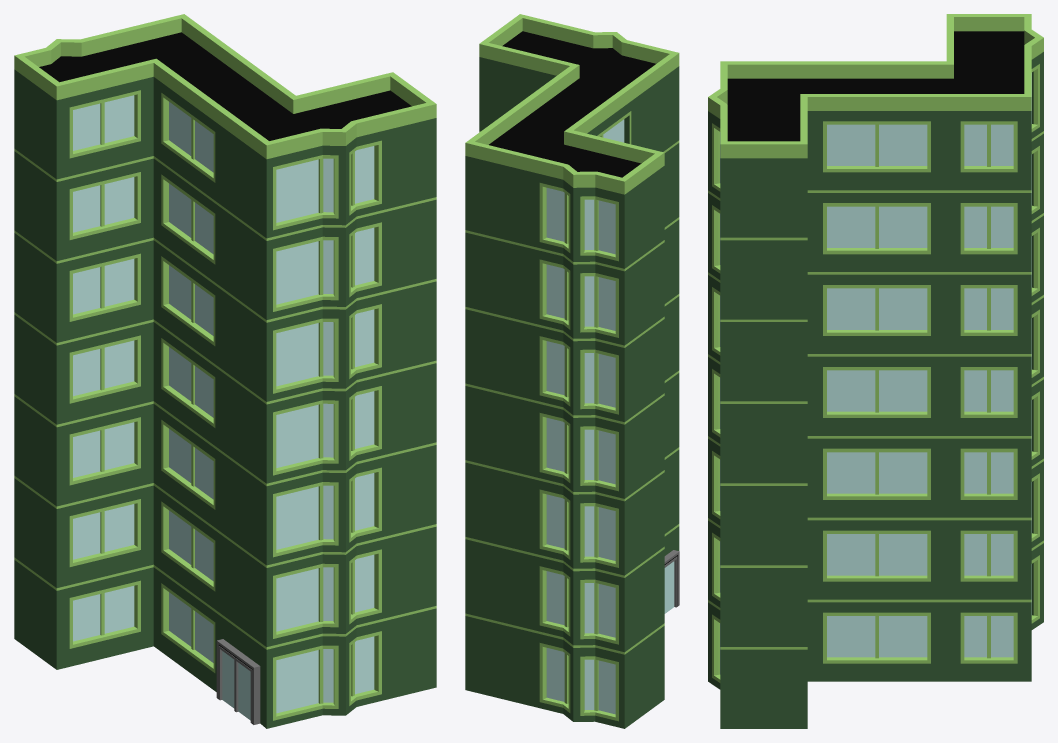
The model's file is BlockOfFlats10.fbx.
3 views of the same model, side by side, from view 1: azimuth 30°, elevation 25°; view 2: azimuth 150°, elevation 25°; view 3: azimuth 270°, elevation 25° (orthographic). The views are drawn at different scales.
Visible parts, largest first — view 1: Cube.008; view 2: Cube.008; view 3: Cube.008.
Part boxes in pixels (x1,y1,x2,y2): Cube.008: (14,14,436,728); Cube.008: (465,14,679,728); Cube.008: (708,14,1043,728).
Bounding box in the file's own units: 6269 × 13096 × 6822.
